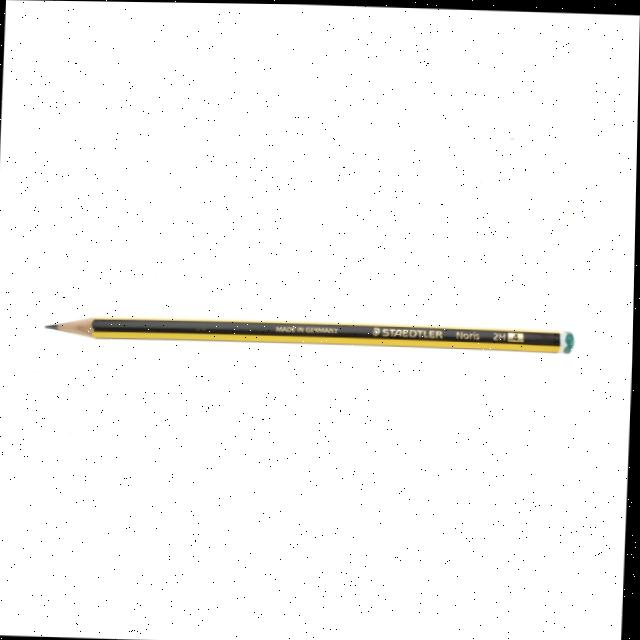pencil: (40, 308, 580, 356)
